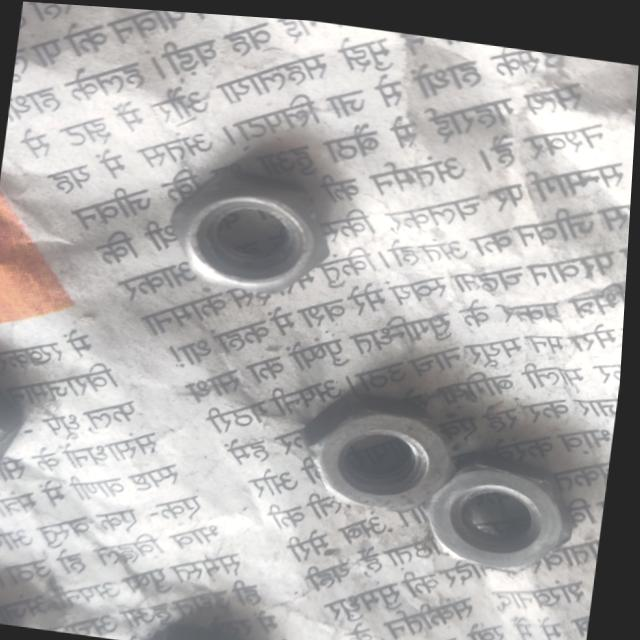disinfected nut: (171, 162, 330, 287), (307, 388, 459, 503), (430, 445, 578, 562), (0, 388, 27, 465)
